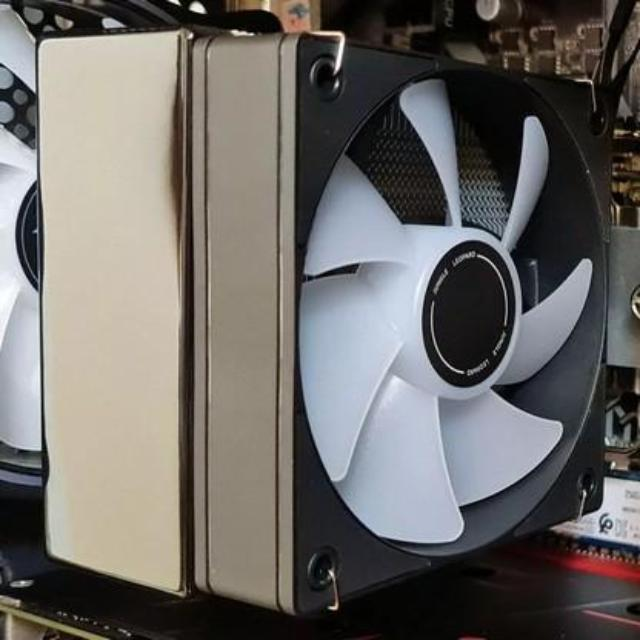CPU_Fan: (38, 29, 610, 596)
